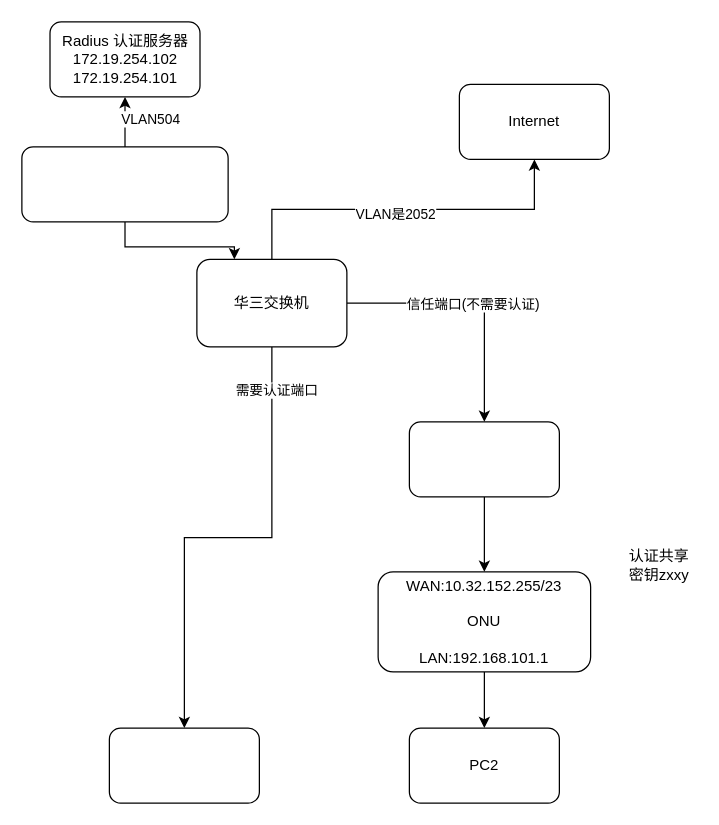
The diagram is 719 pixels wide and 825 high, and some of its shapes have lost their labels. The shapes that lost their labels are listed below. From the top down, each one's centre as x and y in pixels, then its label:
At point (124, 184): "认证服务器网关 10.32.152.1 MAC地址18:c0:09:04:28:78".
At point (483, 459): "OLT".
At point (183, 765): "PC1".
